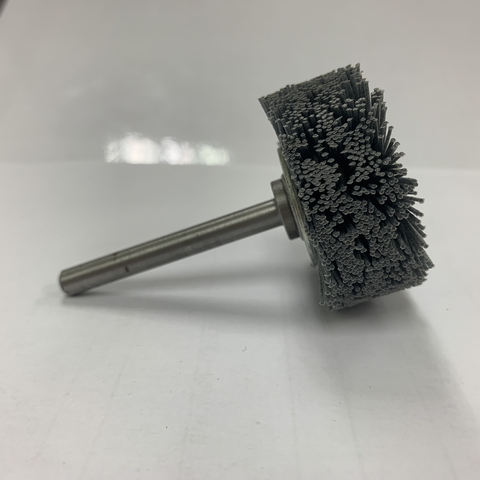Wheel Brush: (43, 62, 445, 315), (37, 67, 429, 302), (117, 53, 443, 332), (228, 45, 448, 344)
